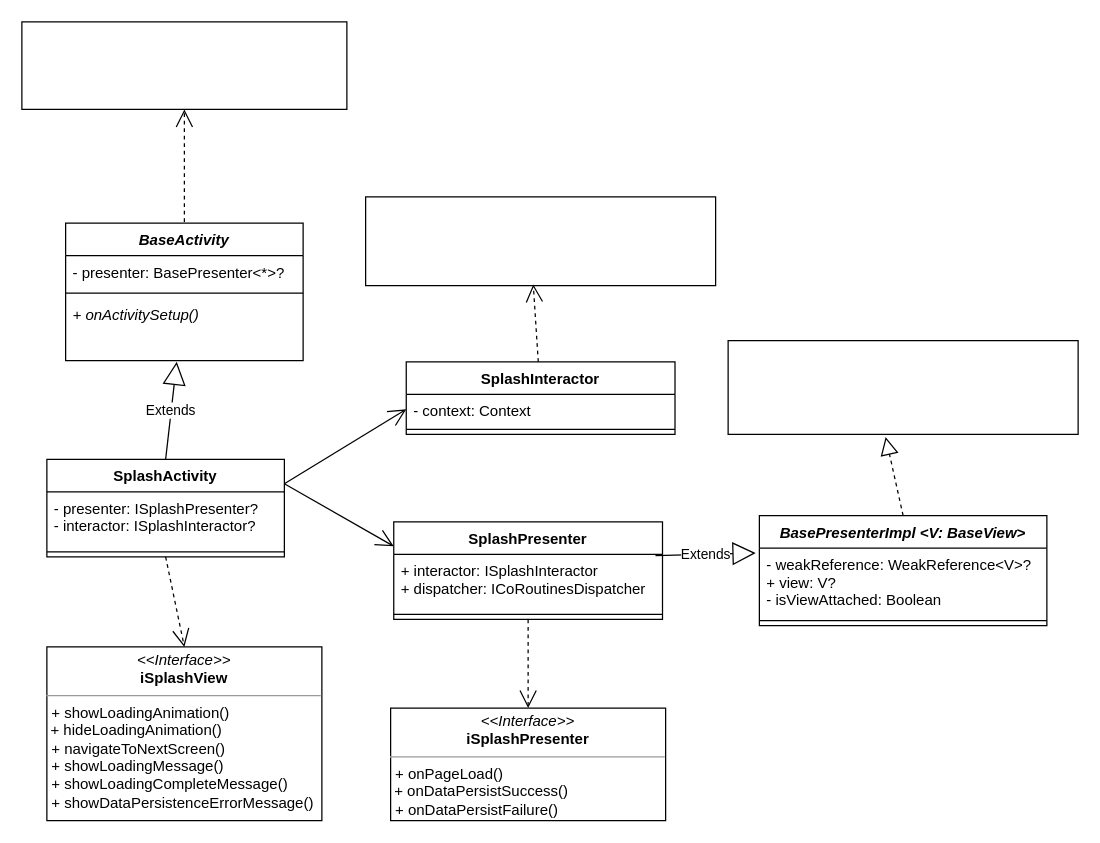
The diagram is 1100 pixels wide and 843 high, and some of its shapes have lost their labels. The centre of each missing label's shape, as x and y in pixels:
"<<Interface>> BasePresenter + attachView(view: V) + detachView()" belongs at pixel 902 386.
"<<Interface>> BaseView + setPresenter(presenter: BasePresenterImpl)" belongs at pixel 184 65.
"<<Interface>> iSplashInteractor + loadDataIntoDatabase(cars: List<Car>): Boolean" belongs at pixel 540 241.
